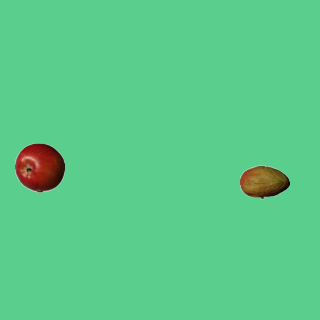Apple Braeburn: (14, 142, 64, 192)
Papaya: (239, 157, 289, 207)
